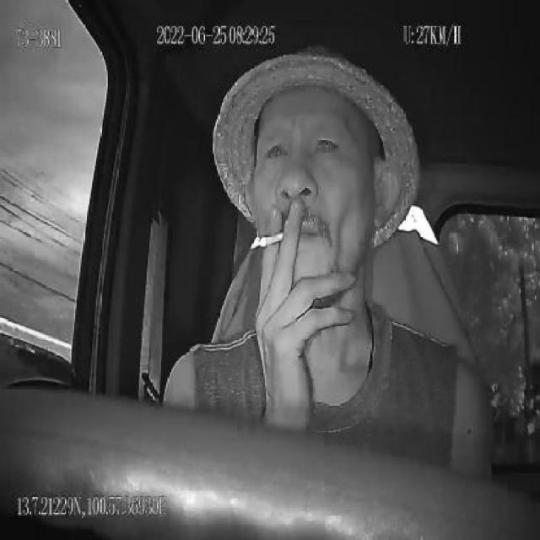smoking: (257, 229, 285, 249)
